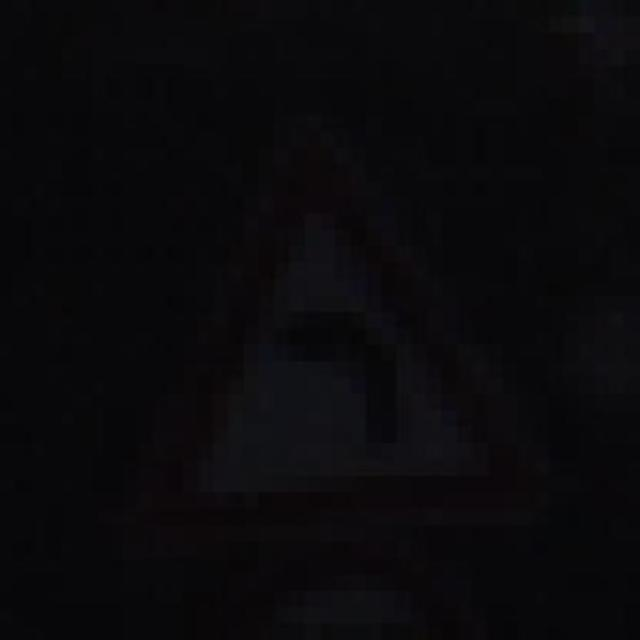Dangerous Left Curve Ahead: (121, 99, 518, 558)
